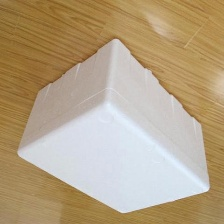foam_box: (12, 34, 214, 218)
